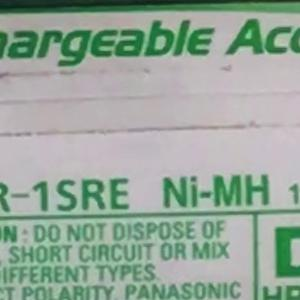keyword: (141, 167, 272, 225)
